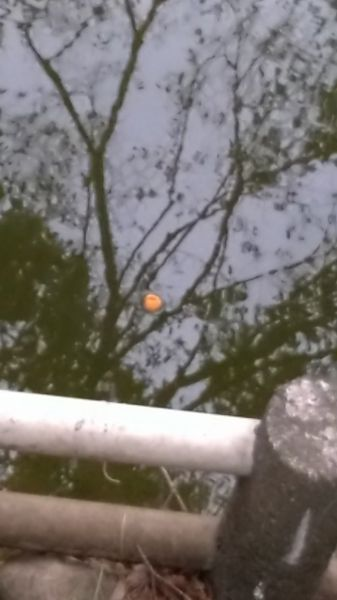eggs: (137, 285, 167, 313)
